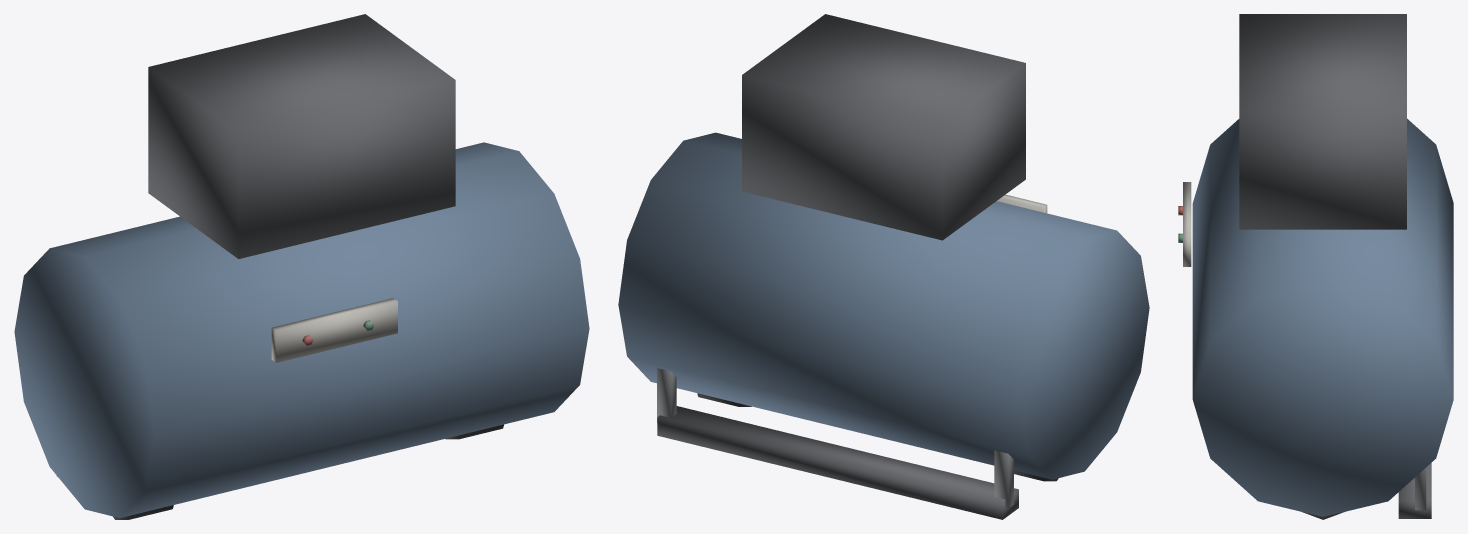
Rendered from air_compressor__reinforced.glb.
3 views of the same model, side by side, from view 1: azimuth 30°, elevation 25°; view 2: azimuth 150°, elevation 25°; view 3: azimuth 270°, elevation 25° (orthographic). The views are drawn at different scales.
Parts seen in each view (by area): view 1: world; view 2: world; view 3: world.
Boxes of the visible parts, left/top/right/bottom form: world: left=14, top=14, right=589, bottom=519; world: left=618, top=14, right=1149, bottom=519; world: left=1178, top=14, right=1453, bottom=519.
Size of the model in its own units: 1.03 by 0.9078 by 0.6087.
